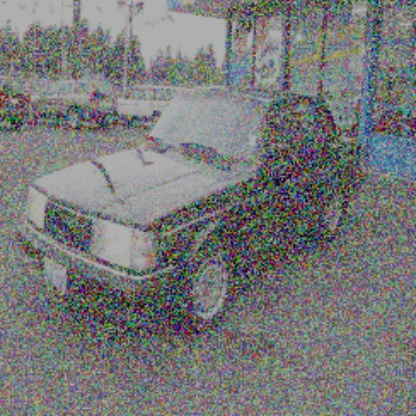Vehicle: (13, 81, 366, 336)
